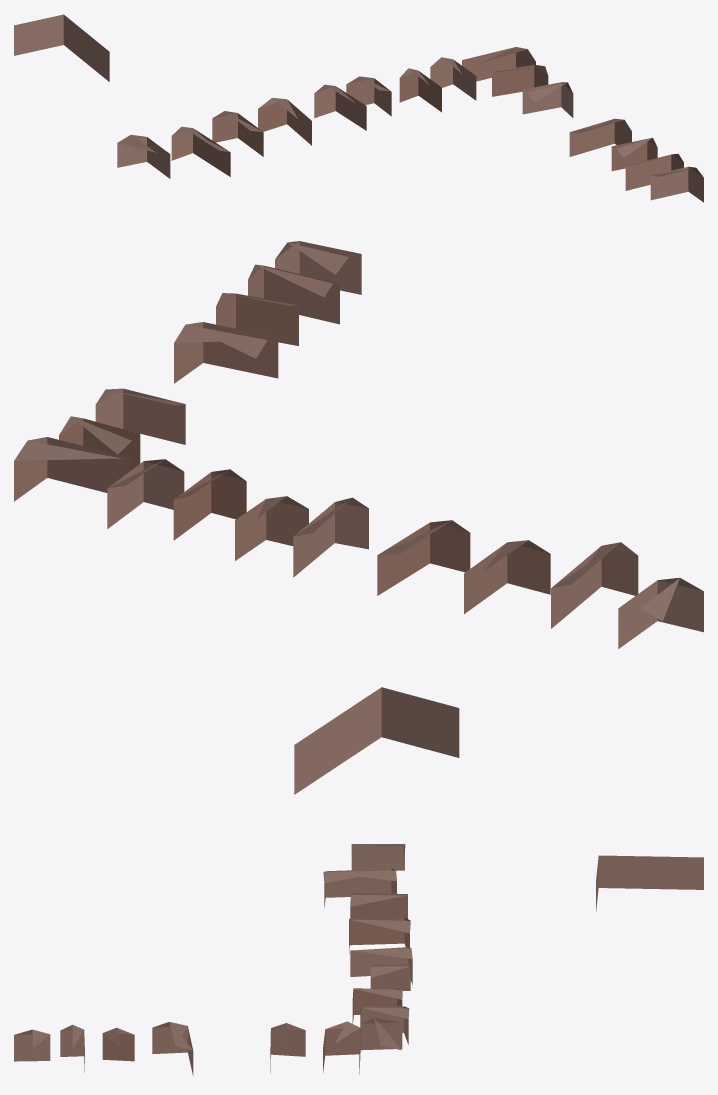
File: c_1639_17834_buildings_residential.glb
3 views of the same model, one above another, from view 1: azimuth 30°, elevation 25°; view 2: azimuth 150°, elevation 25°; view 3: azimuth 270°, elevation 25° (orthographic). The views are drawn at different scales.
Visible parts, largest first — view 1: geometry_0; view 2: geometry_0; view 3: geometry_0.
Part boxes in pixels (x1,y1,x2,y2): geometry_0: [14, 14, 703, 202]; geometry_0: [14, 241, 703, 794]; geometry_0: [14, 844, 703, 1075].
Bounding box in the file's own units: 153 × 11.08 × 212.
